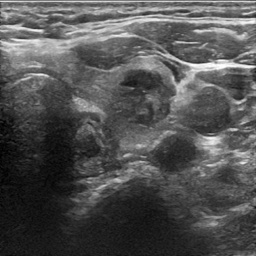mass: (120, 64, 175, 122)
